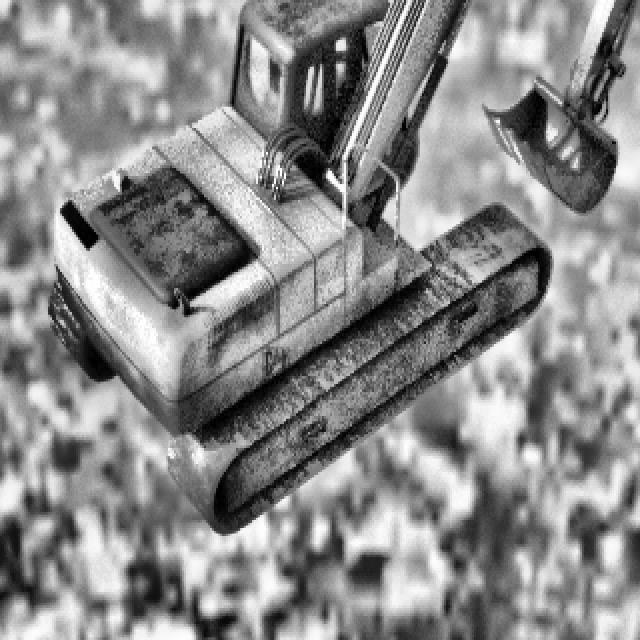excavator: (46, 0, 640, 531)
